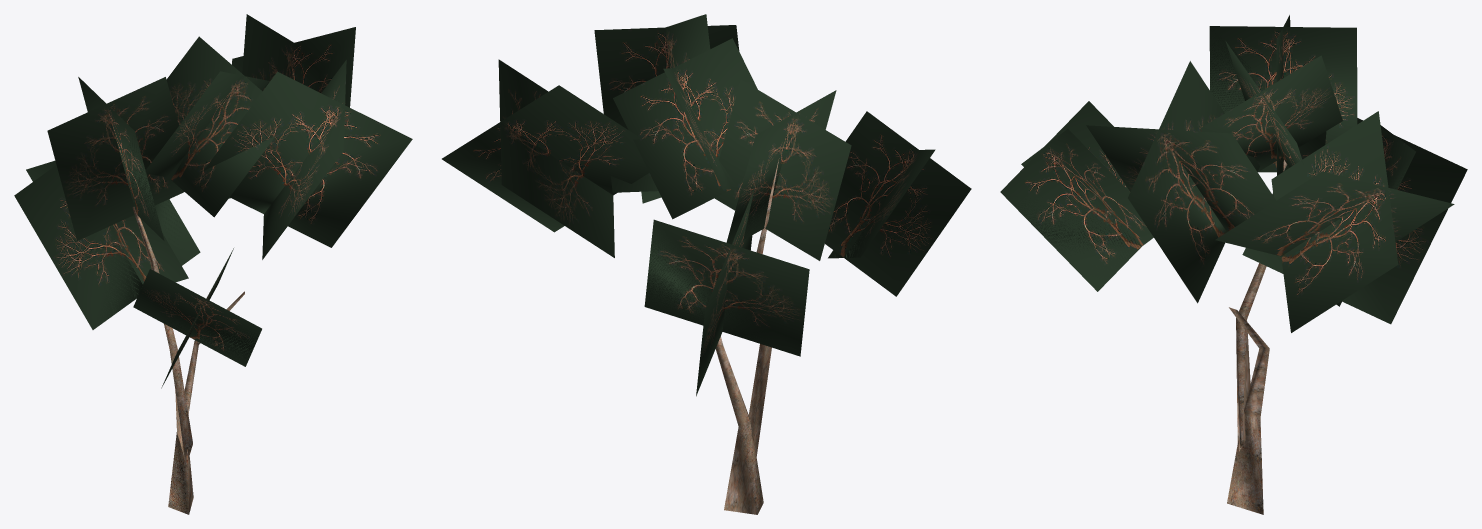
File: decd_ginkgotreebranches_a1_l2.fbx
3 views of the same model, side by side, from view 1: azimuth 30°, elevation 25°; view 2: azimuth 150°, elevation 25°; view 3: azimuth 270°, elevation 25° (orthographic). The views are drawn at different scales.
Visible parts, largest first — view 1: mesh_node; view 2: mesh_node; view 3: mesh_node.
Part boxes in pixels (x1,y1,x2,y2): mesh_node: (14, 14, 412, 514); mesh_node: (442, 14, 971, 514); mesh_node: (1000, 15, 1467, 514).
Size of the model in its own units: 6.81 by 8.3 by 7.31.
Materials: 2 (2 with a texture image).
